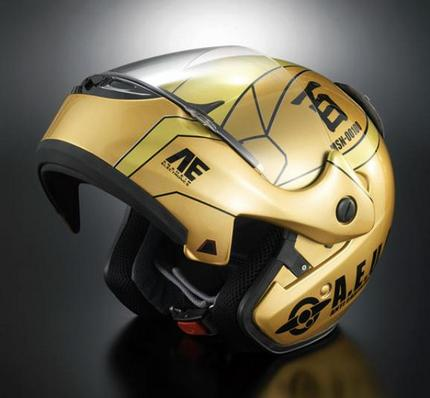helmet: (30, 49, 392, 343)
